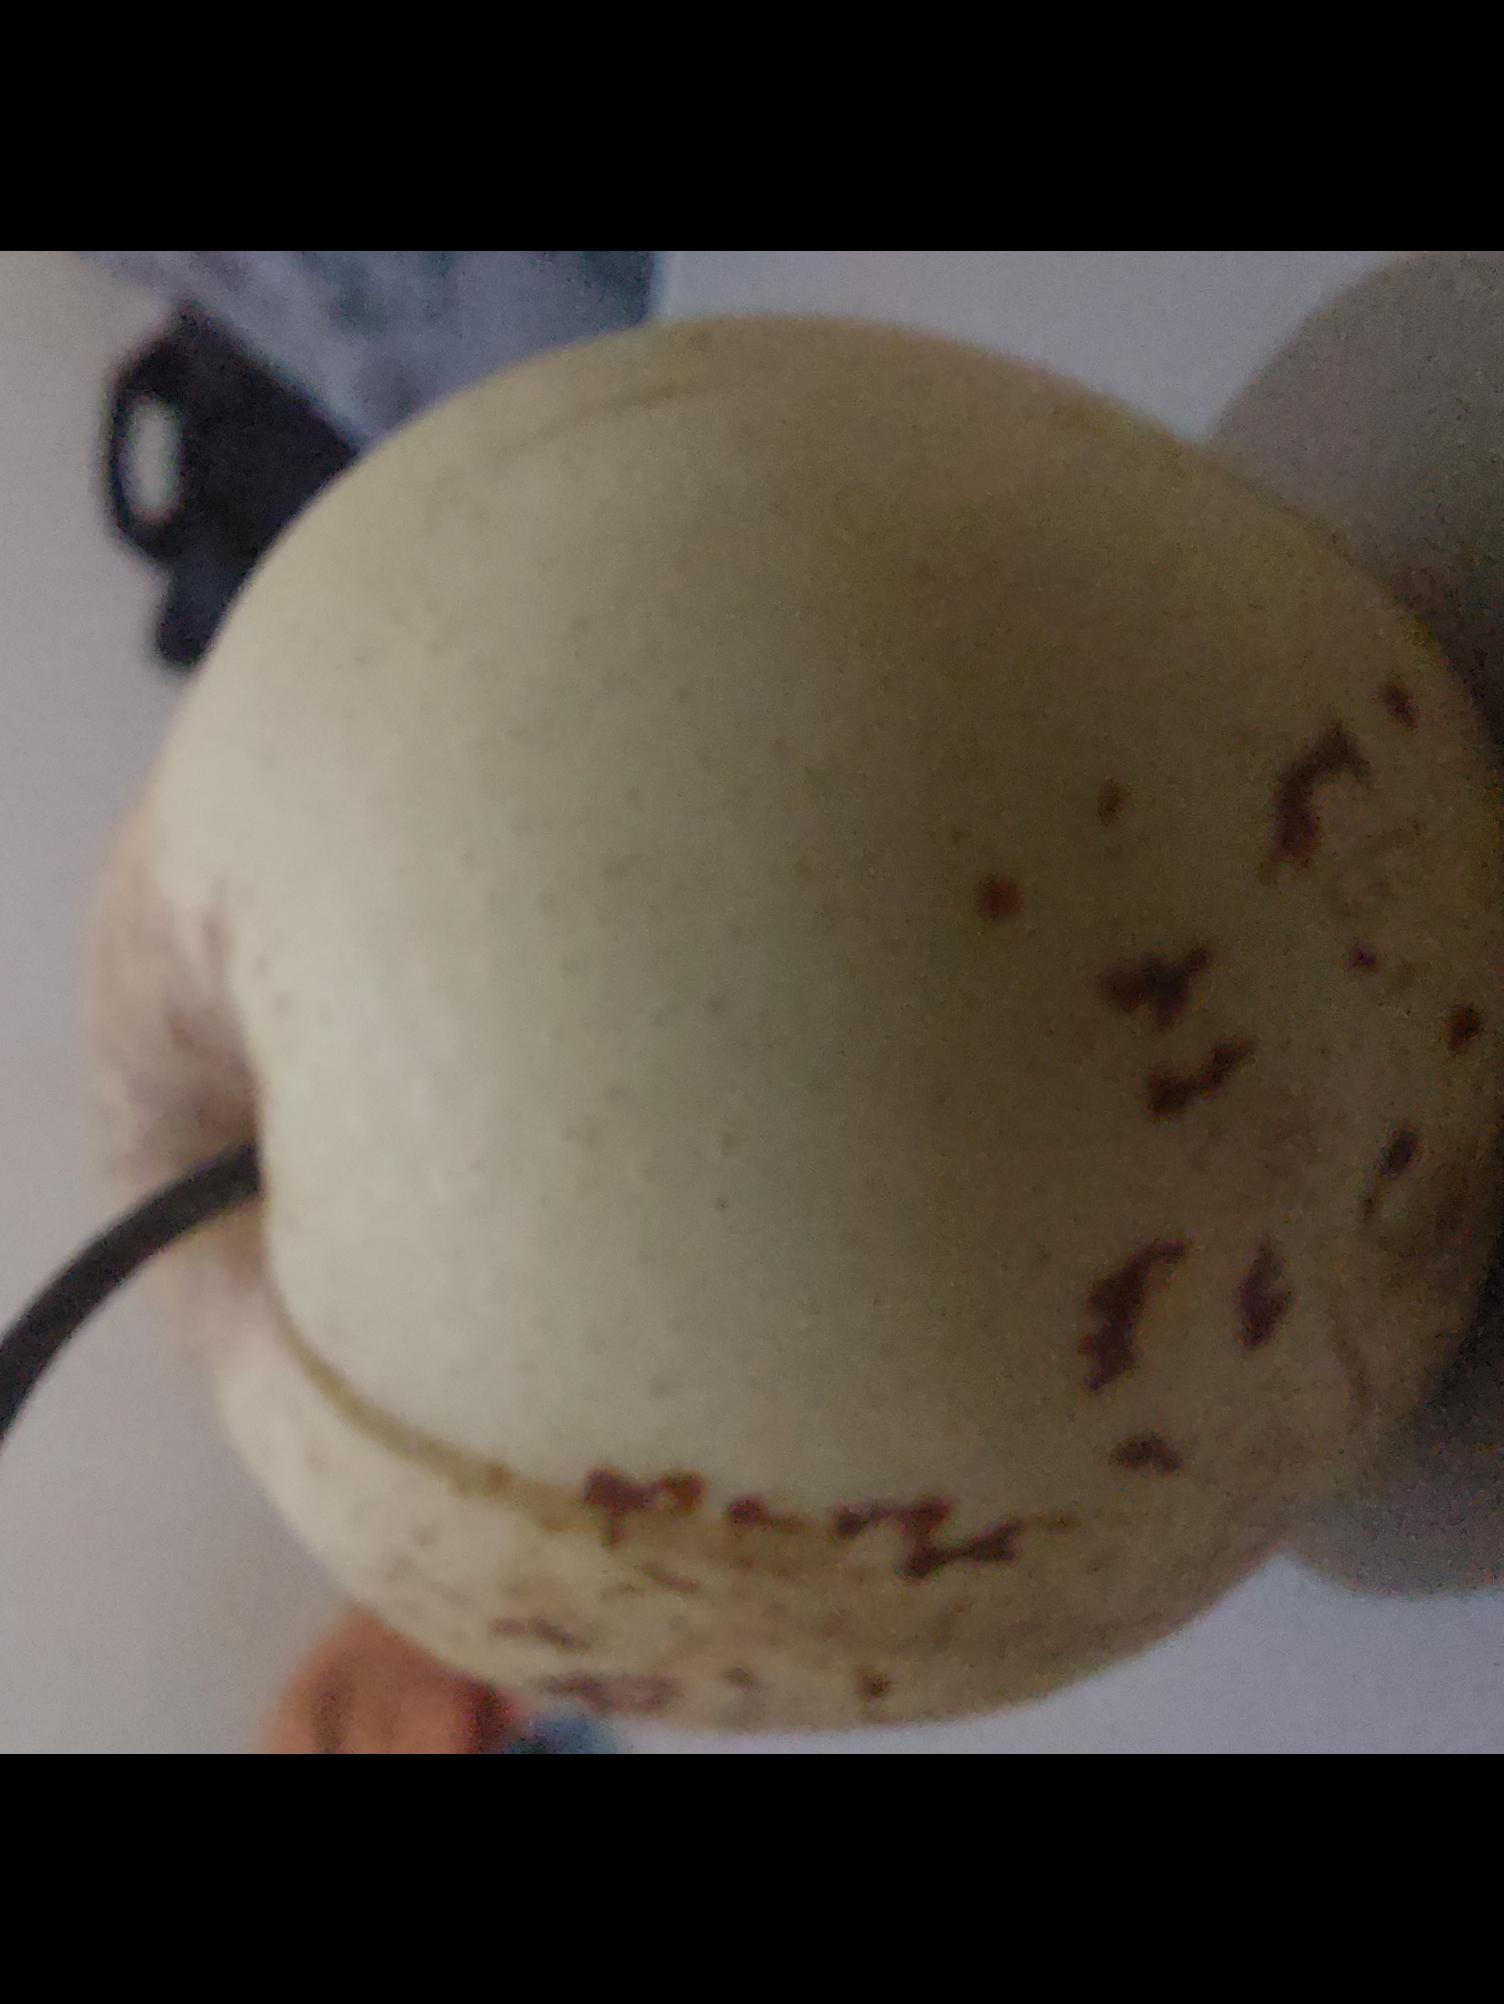Bad Pear: (256, 426, 1504, 1641)
